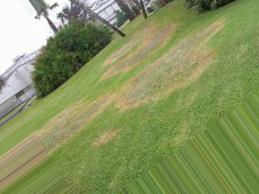patch: (123, 69, 166, 105), (163, 47, 203, 66), (49, 119, 73, 134), (109, 56, 138, 64)
